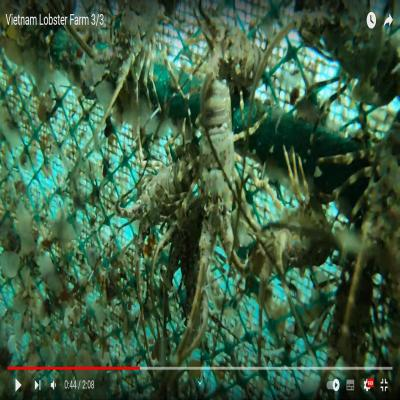lobster: (199, 74, 236, 247), (107, 0, 164, 92), (126, 156, 194, 221)
